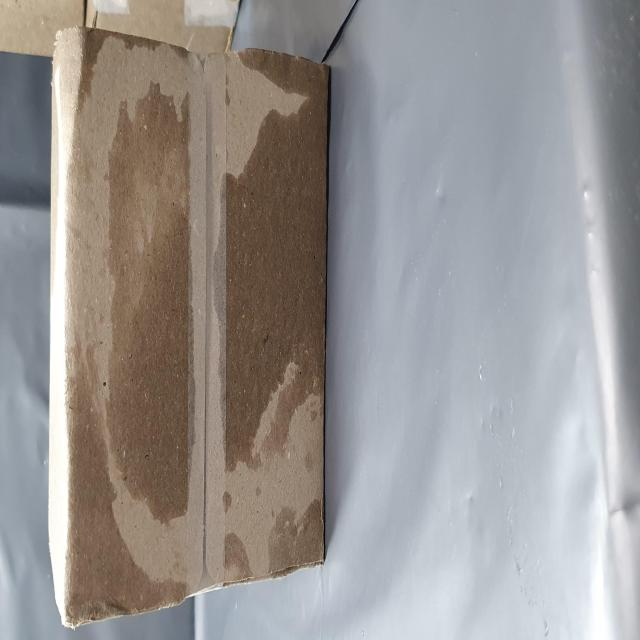wet: (9, 90, 344, 344), (31, 393, 336, 596)
